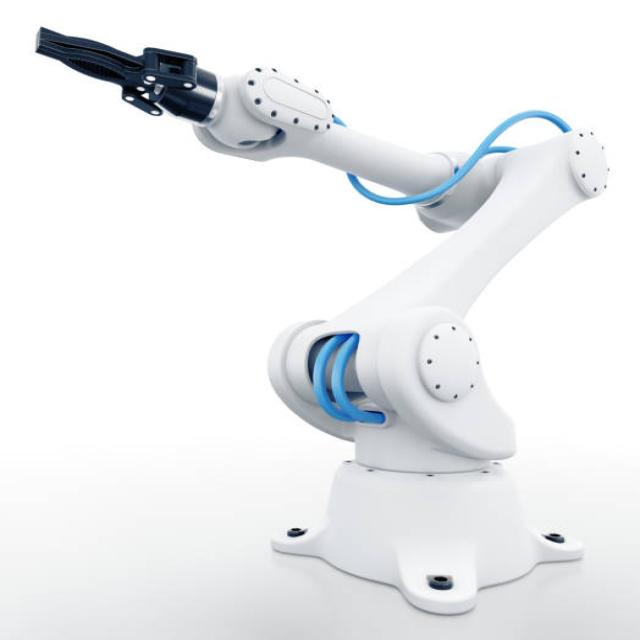Robotic-arm: (18, 17, 618, 628)
